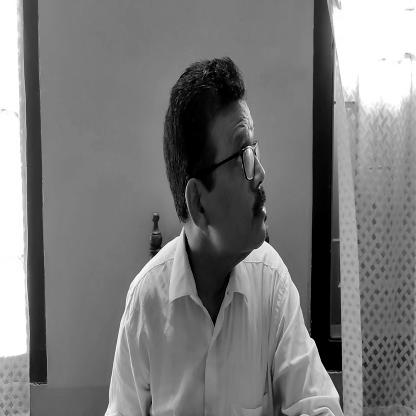Distracted: (152, 52, 274, 258)
